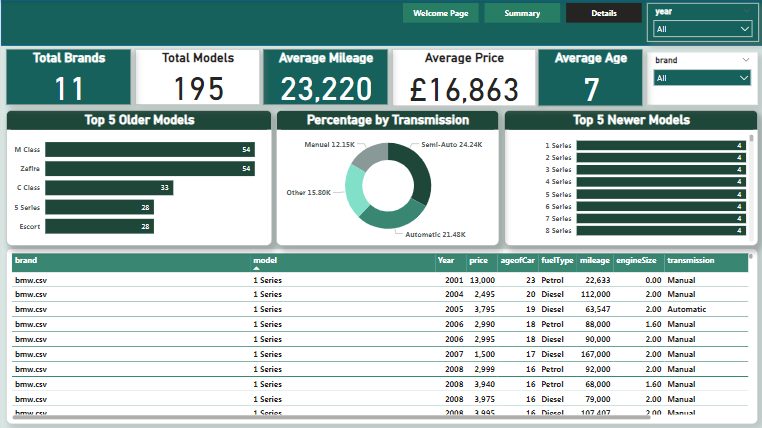

This screenshot's page, from the dashboard's own definition file:
{"tool":"powerbi","page":{"name":"Details","canvas":[1280,720],"ordinal":2},"visuals":[{"type":"shape","box":[11.8,115.9,379.6,267.1],"z":0},{"type":"actionButton","box":[1179.2,0,100.8,40.3],"z":1000},{"type":"actionButton","box":[0,0,100,40],"z":2000},{"type":"tableEx","fields":{"Values":["30DLTweets.User","30DLTweets.Tweet"]},"box":[413.2,404.8,855,300.7],"z":3000},{"type":"barChart","title":"Most Mentioned Handles","fields":{"Category":["Popular users.Handles"],"Y":["CountNonNull(30DLTweets.Tweet)"]},"box":[11.8,406.5,379.6,300.7],"z":4000},{"type":"card","fields":{"Values":["CountNonNull(30DLTweets.Tweet)"]},"box":[42,123.9,159.6,132.7],"z":5000},{"type":"card","fields":{"Values":["CountNonNull(30DLTweets.Tweet)"]},"box":[216.7,123.9,159.6,132.7],"z":6000},{"type":"card","fields":{"Values":["CountNonNull(30DLTweets.Tweet)"]},"box":[42,256.6,159.6,132.7],"z":7000},{"type":"card","fields":{"Values":["CountNonNull(30DLTweets.Tweet)"]},"box":[216.7,256.6,159.6,132.7],"z":8000},{"type":"WordCloud1447959067750","title":"Word Cloud","fields":{"Category":["30DLTweets.Tweet"]},"box":[413.2,115.9,855,267.1],"z":9000},{"type":"textbox","box":[210,3.4,860.1,73.9],"z":10000},{"type":"image","box":[193.2,5,62.2,73.9],"z":11000},{"type":"image","box":[16.8,142.4,67.2,97.4],"z":12000},{"type":"image","box":[208.3,160.9,57.1,60.5],"z":13000},{"type":"image","box":[16.8,283.5,72.2,79],"z":14000},{"type":"image","box":[198.2,276.8,77.3,85.7],"z":15000},{"type":"textbox","box":[16.8,115.9,374.6,38.6],"z":16000}]}

Visuals, with their boxes in screenshot pixels (x1, y1, x2, y2), scaled from the page's 1280x720 canvas onto the 762x428 screenshot:
shape: bbox=[7, 69, 233, 228]
actionButton: bbox=[702, 0, 761, 24]
actionButton: bbox=[0, 0, 60, 24]
tableEx - 30DLTweets.User x 30DLTweets.Tweet: bbox=[246, 241, 755, 419]
"Most Mentioned Handles" barChart: bbox=[7, 242, 233, 420]
card - CountNonNull(30DLTweets.Tweet): bbox=[25, 74, 120, 153]
card - CountNonNull(30DLTweets.Tweet): bbox=[129, 74, 224, 153]
card - CountNonNull(30DLTweets.Tweet): bbox=[25, 153, 120, 231]
card - CountNonNull(30DLTweets.Tweet): bbox=[129, 153, 224, 231]
"Word Cloud" WordCloud1447959067750: bbox=[246, 69, 755, 228]
textbox: bbox=[125, 2, 637, 46]
image: bbox=[115, 3, 152, 47]
image: bbox=[10, 85, 50, 143]
image: bbox=[124, 96, 158, 132]
image: bbox=[10, 169, 53, 215]
image: bbox=[118, 165, 164, 215]
textbox: bbox=[10, 69, 233, 92]
